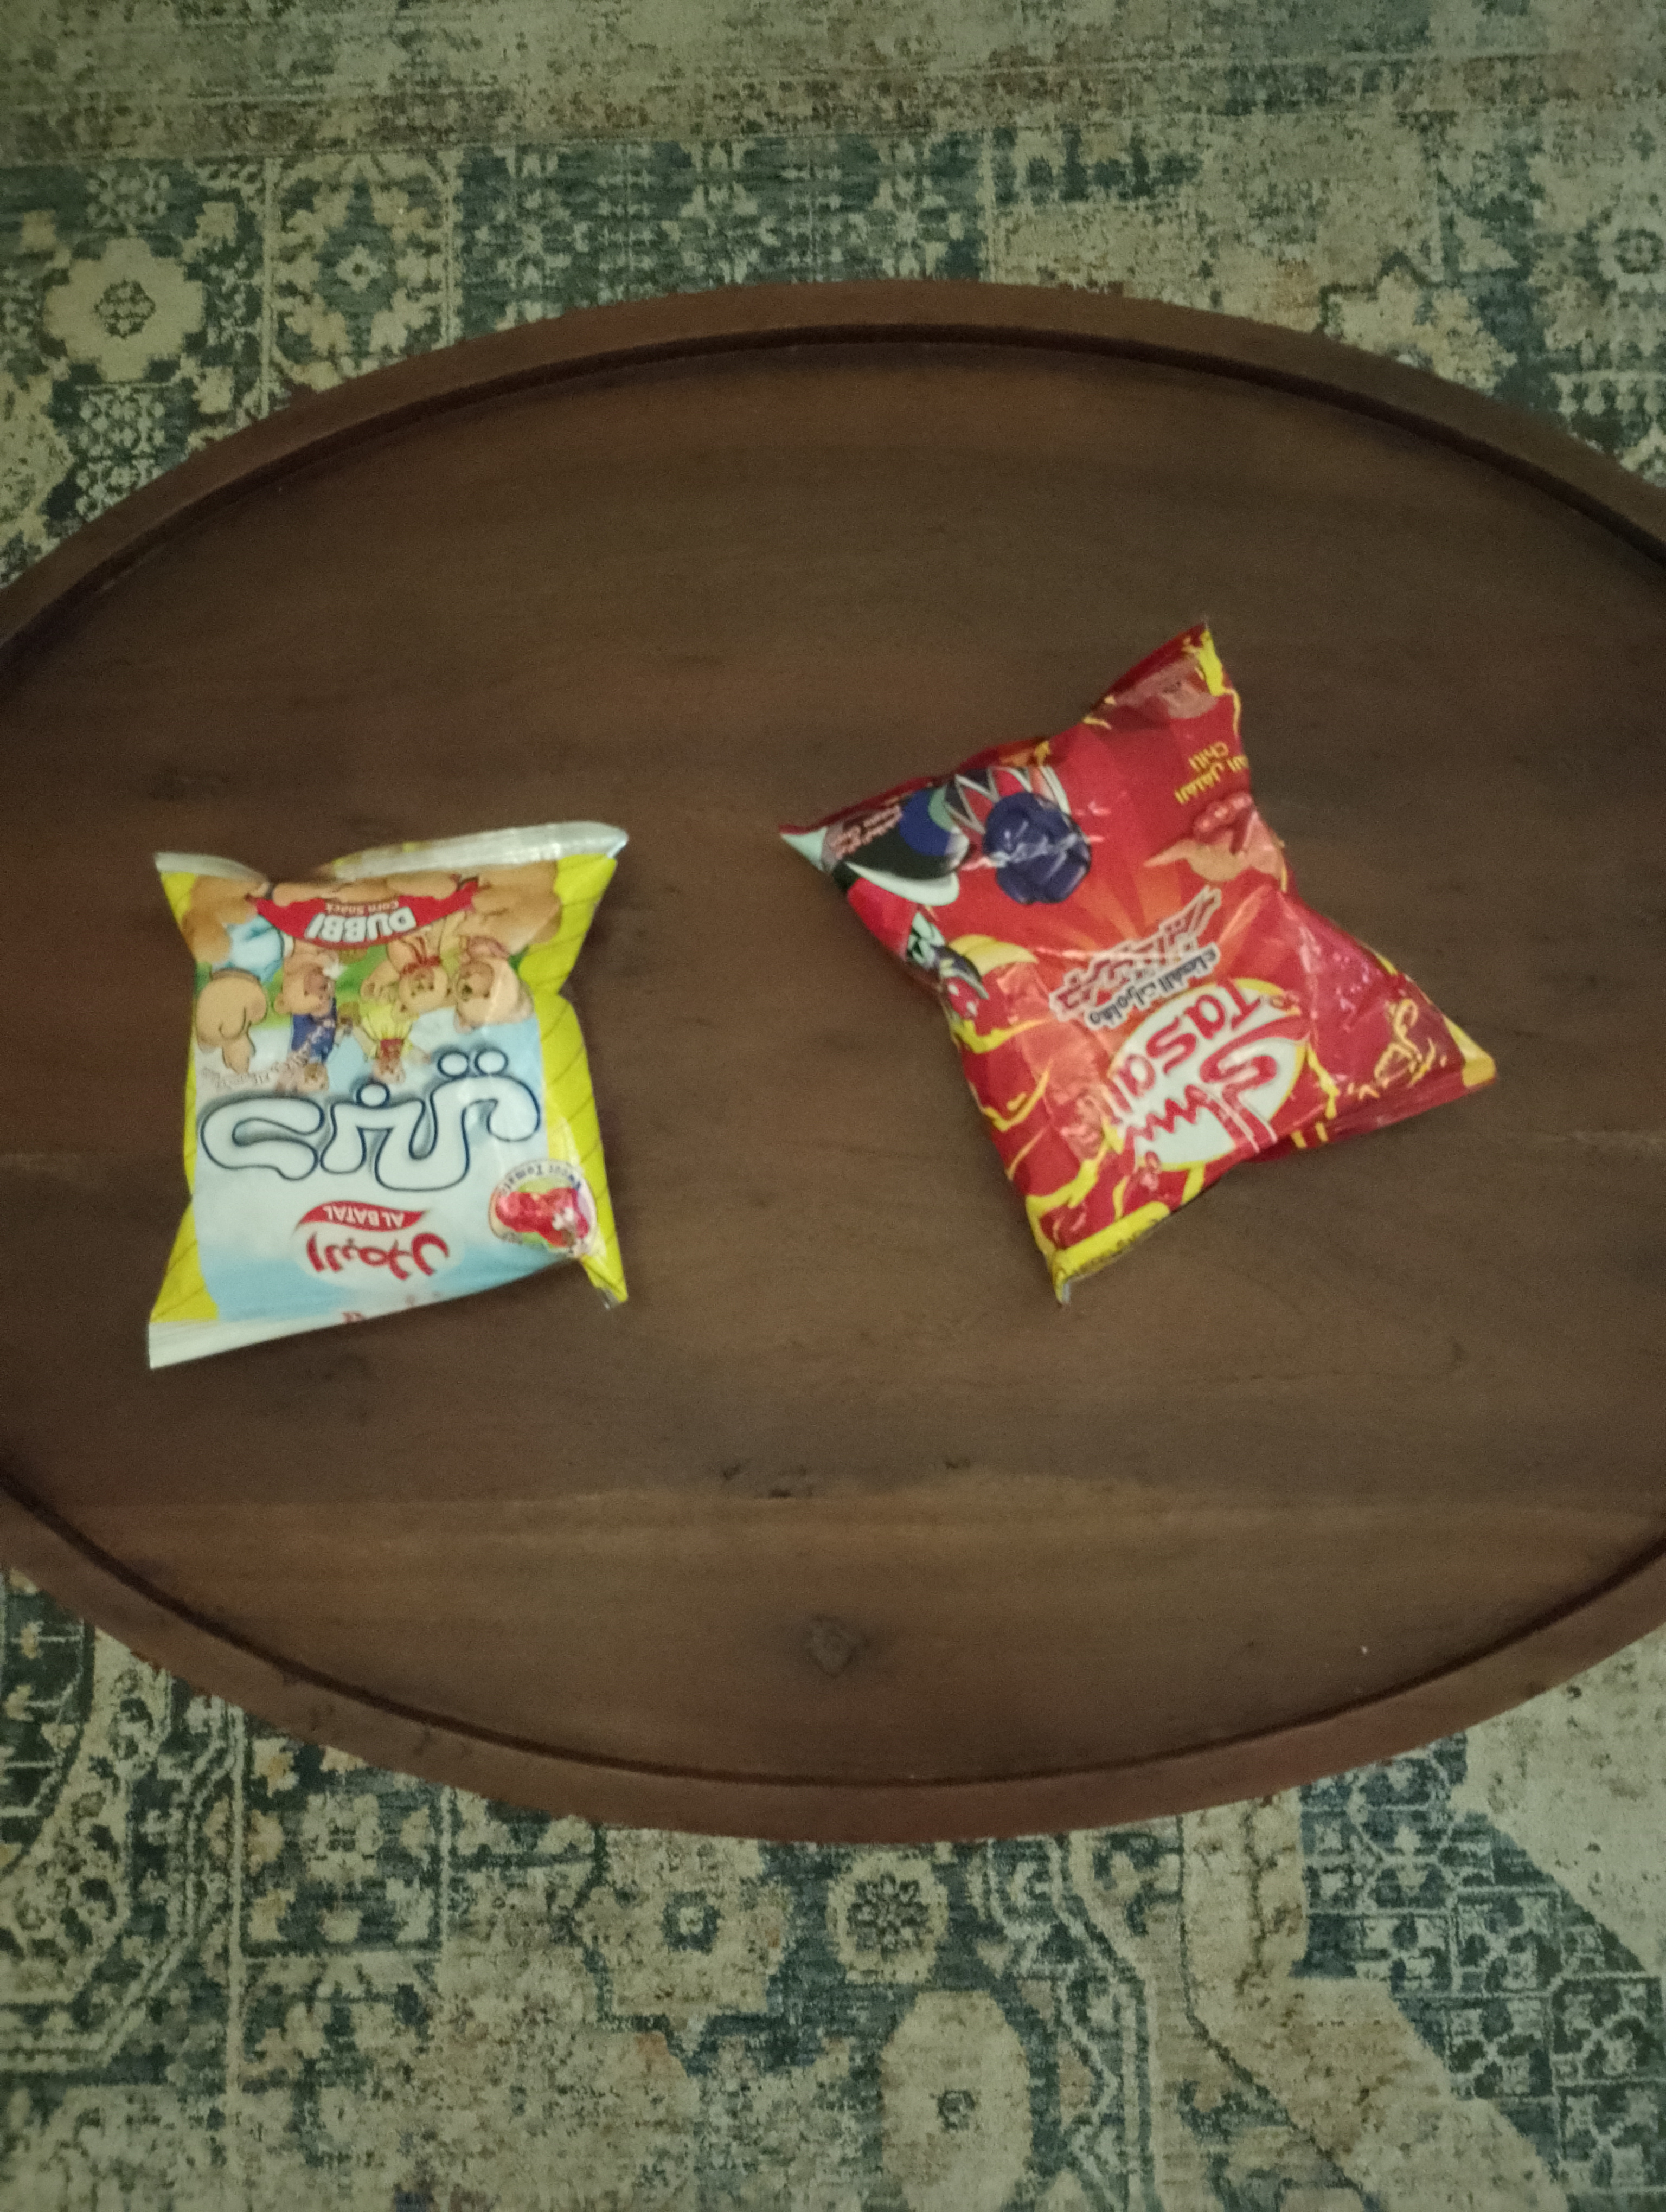albatal_dubbi_corn_snack: (147, 818, 630, 1369)
tasali_hot_chili: (777, 610, 1502, 1315)
